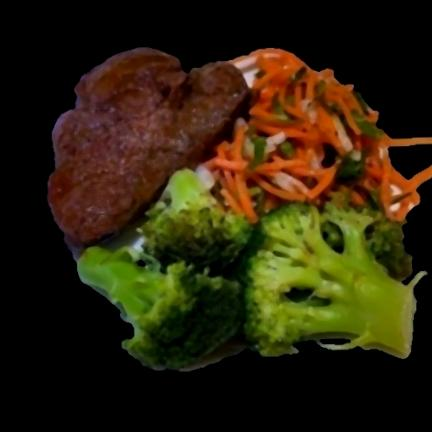broccoli: (78, 170, 425, 369)
carrot: (207, 49, 431, 221)
meat: (47, 49, 249, 247)
